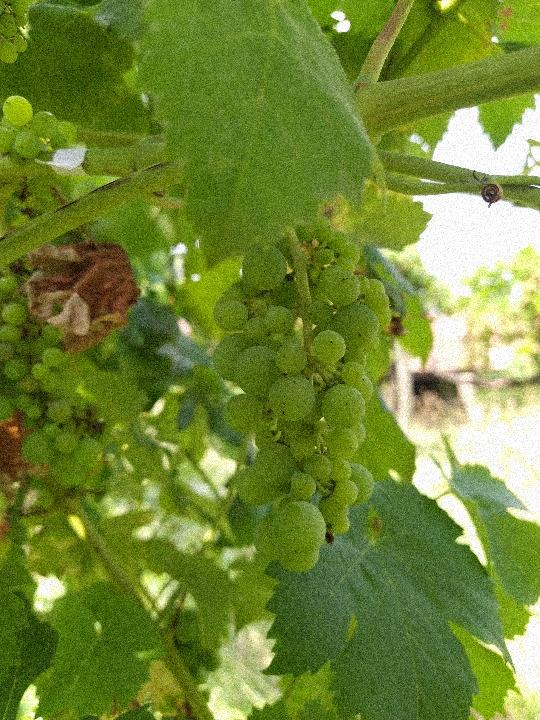grape: (212, 214, 394, 576)
